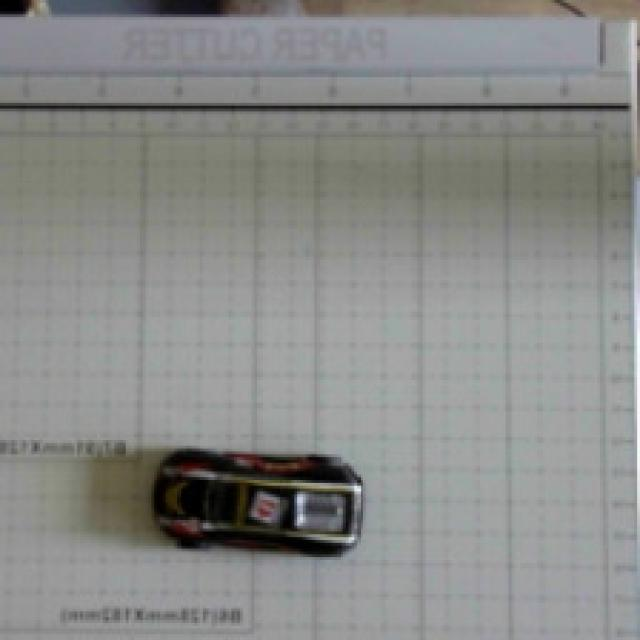Red Car: (133, 414, 404, 588)
